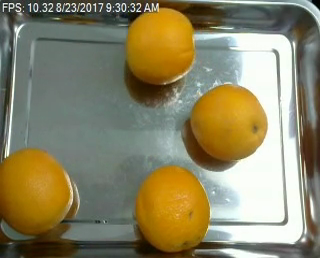Orange: (134, 164, 209, 252), (1, 149, 73, 234), (189, 83, 268, 160), (125, 7, 195, 85)
